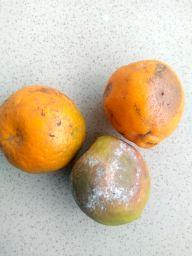orange: (1, 84, 88, 175), (67, 134, 152, 227), (102, 58, 185, 150)
